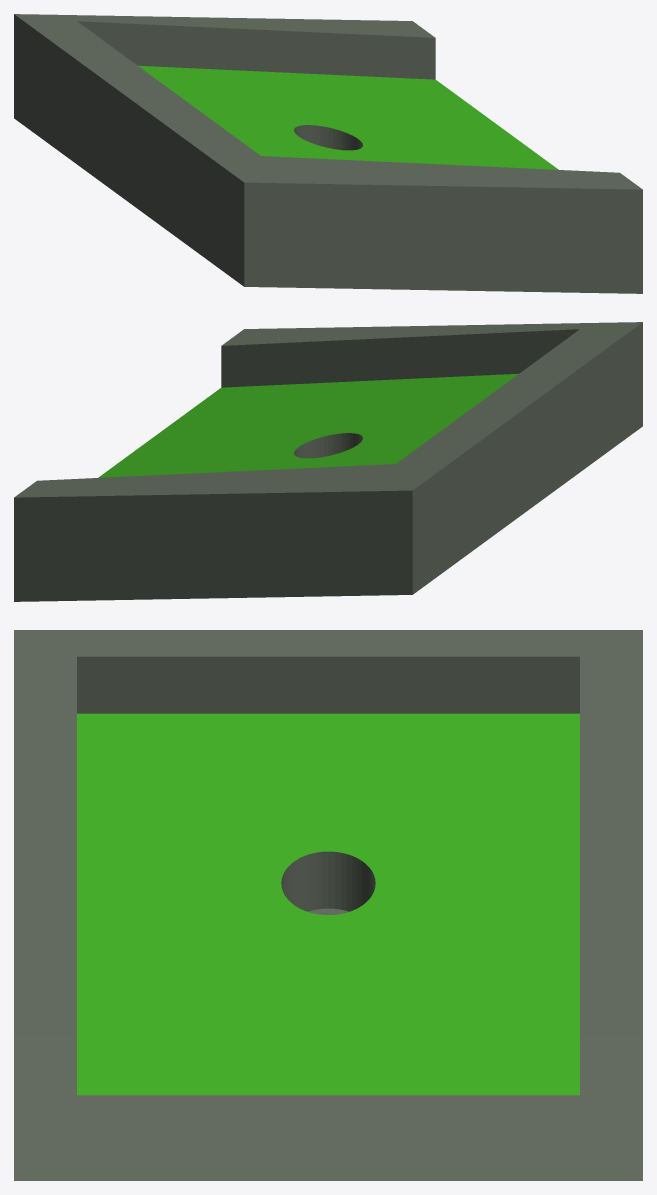
The model's file is HoleAngled.fbx.
3 renders of one model, top to bottom at view 1: azimuth 30°, elevation 25°; view 2: azimuth 150°, elevation 25°; view 3: azimuth 270°, elevation 25°, orthographic. The views are drawn at different scales.
Parts seen in each view (by area): view 1: Plane.023; view 2: Plane.023; view 3: Plane.023.
Part boxes in pixels (x1=…): Plane.023: x1=14, y1=14, x2=642, y2=293; Plane.023: x1=14, y1=322, x2=642, y2=601; Plane.023: x1=14, y1=630, x2=642, y2=1180.
Size of the model in its own units: 200 by 100 by 200.
